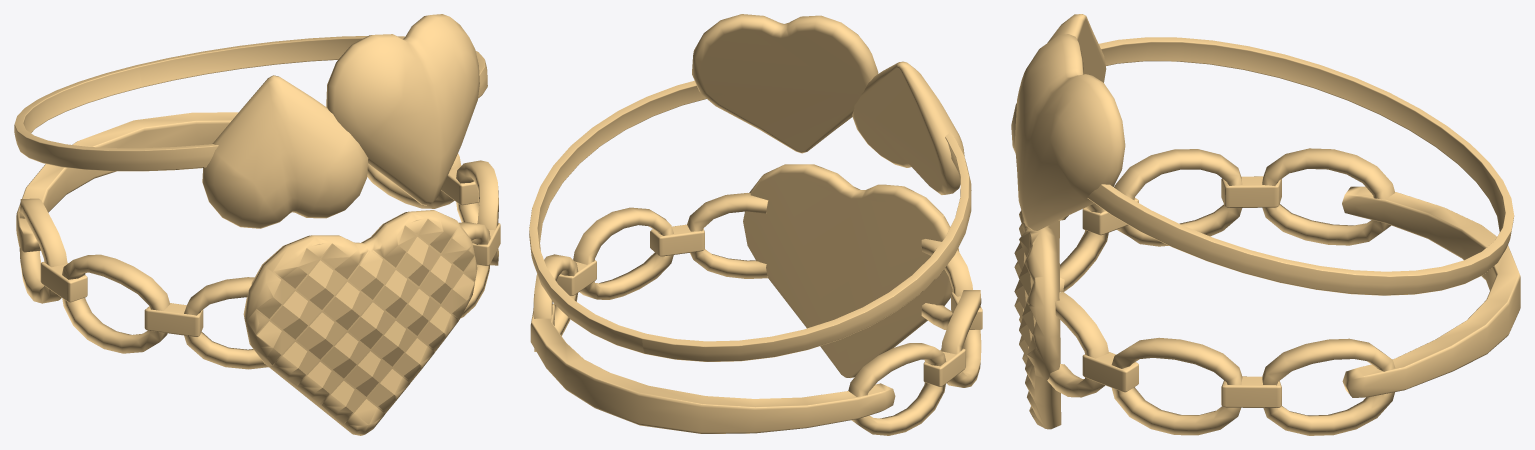
Rendered from HeartRing.glb.
3 renders of one model, left to right at view 1: azimuth 30°, elevation 25°; view 2: azimuth 150°, elevation 25°; view 3: azimuth 270°, elevation 25°, orthographic. The views are drawn at different scales.
Visible parts, largest first — view 1: SpikeyHeartRing, DoubleHeartRing; view 2: SpikeyHeartRing, DoubleHeartRing; view 3: SpikeyHeartRing, DoubleHeartRing.
Part boxes in pixels (x1,y1,x2,y2): SpikeyHeartRing: (16,112,500,435); DoubleHeartRing: (14,14,487,228); SpikeyHeartRing: (530,164,982,435); DoubleHeartRing: (529,14,971,361); SpikeyHeartRing: (1014,148,1520,435); DoubleHeartRing: (1011,14,1514,295).
Bounding box in the file's own units: 7.91 × 7.01 × 8.06.
